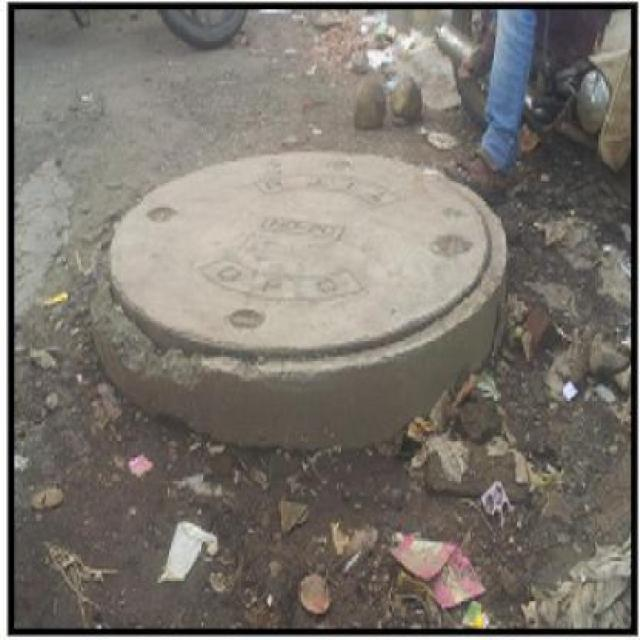Manhole: (95, 140, 503, 372)
